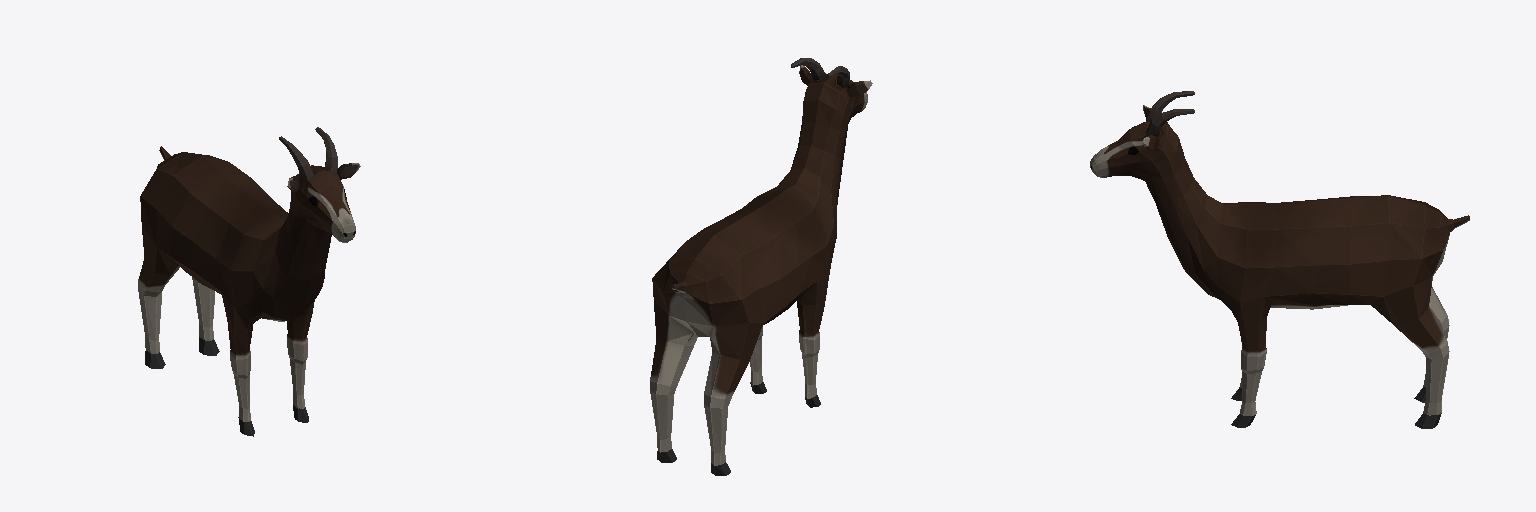
The picture shows the model from 3 angles: view 1: azimuth 30°, elevation 25°; view 2: azimuth 150°, elevation 25°; view 3: azimuth 270°, elevation 25°; orthographic projection.
Parts seen in each view (by area): view 1: Goat_mesh; view 2: Goat_mesh; view 3: Goat_mesh.
Part boxes in pixels (x1,y1,x2,y2): Goat_mesh: (138, 127, 360, 436); Goat_mesh: (650, 58, 872, 475); Goat_mesh: (1090, 91, 1469, 428).
Bounding box in the file's own units: 2.26 × 6.6 × 7.31.
Materials: 1 (1 with a texture image).